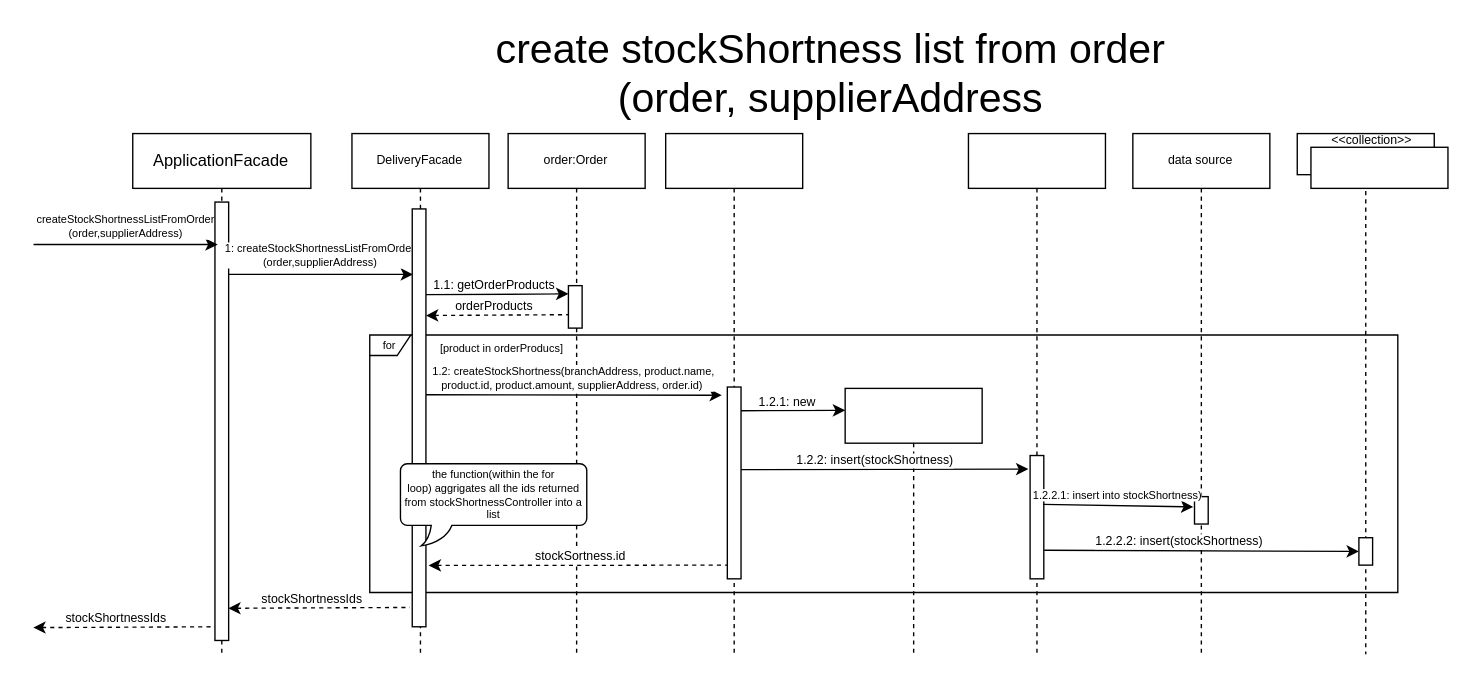
The diagram is 1473 pixels wide and 678 high, and some of its shapes have lost their labels. The box of each missing label's shape, as (x1, y1, x2, y2) in pixels:
stockShortnessController: (664, 132, 803, 654)
stockShortnessController: StockShortnessController: (844, 387, 982, 654)
stockShortnesses: (1310, 146, 1448, 188)
stockShortnessMapper: (967, 132, 1105, 654)
